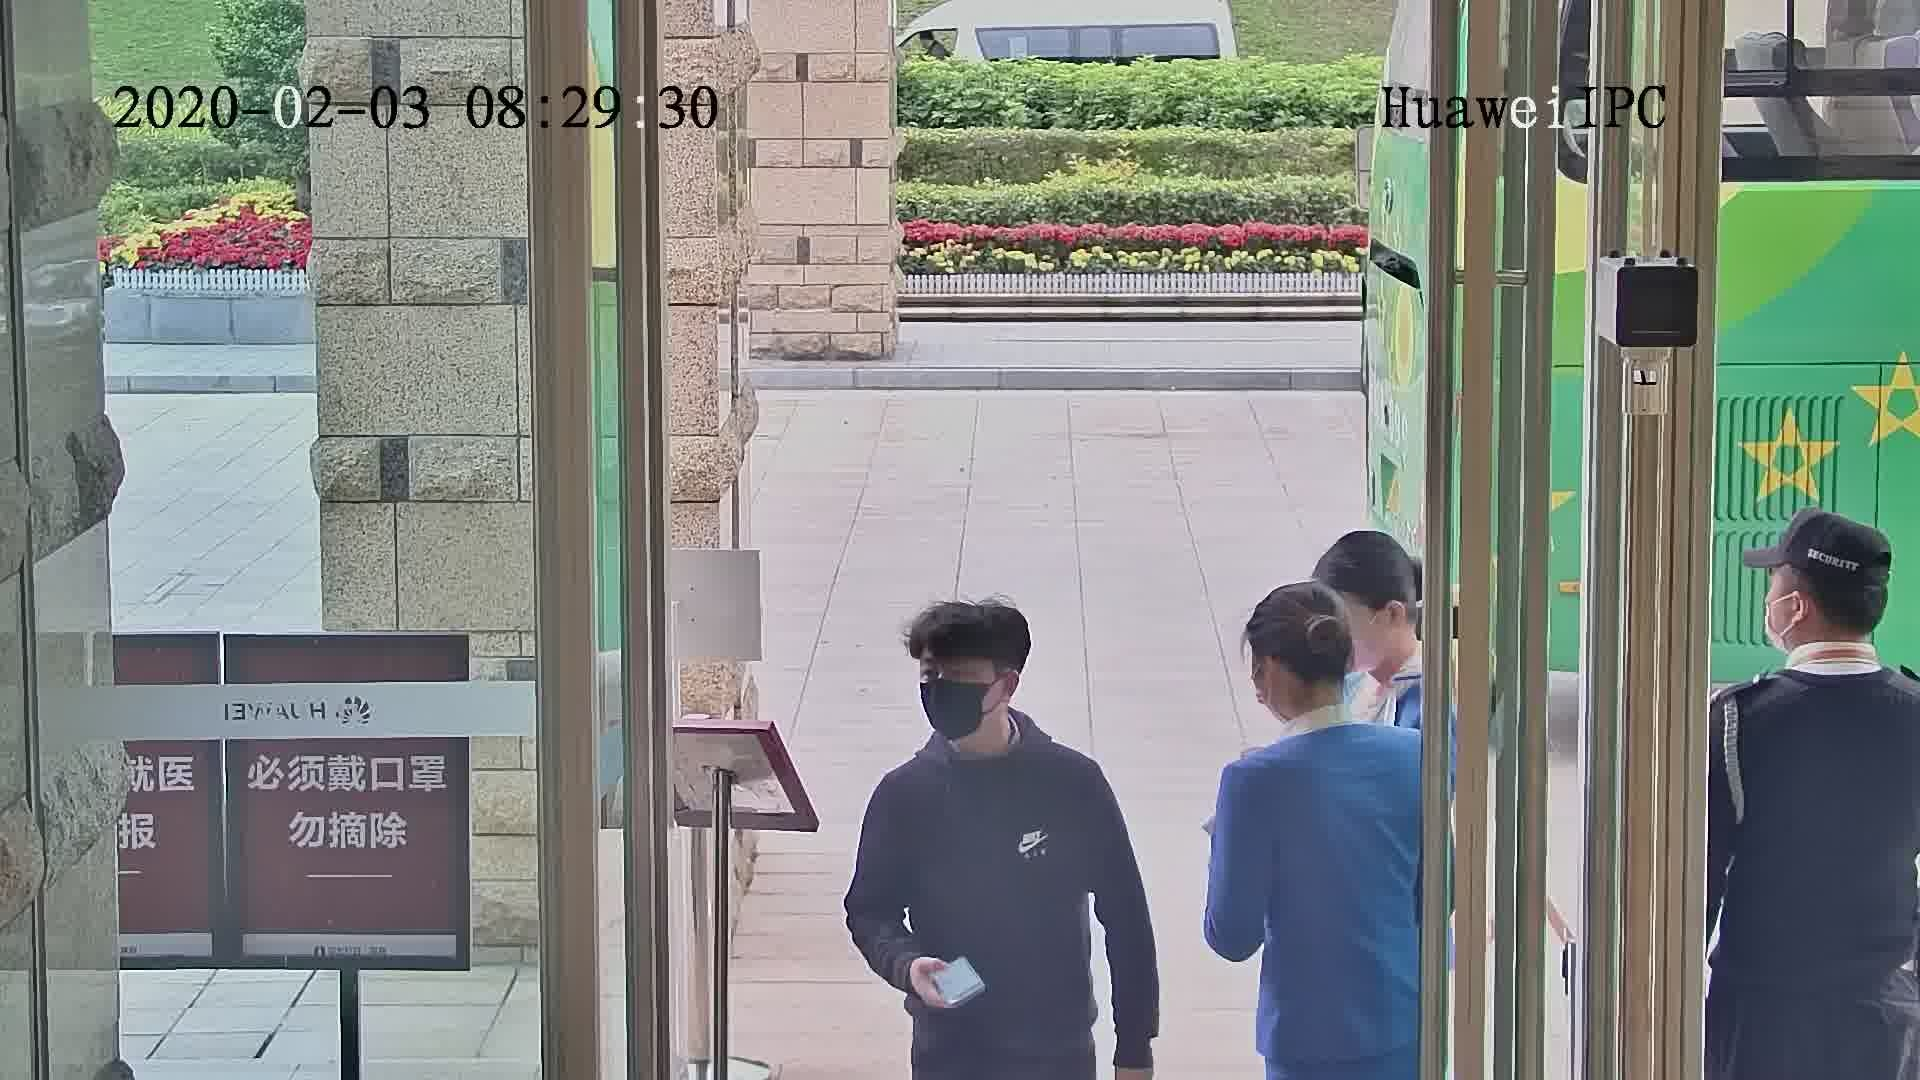face: (914, 653, 1005, 742)
mask: (918, 678, 991, 740)
person: (856, 589, 1124, 854), (1217, 586, 1415, 845), (1723, 509, 1920, 766), (1333, 520, 1436, 751)
